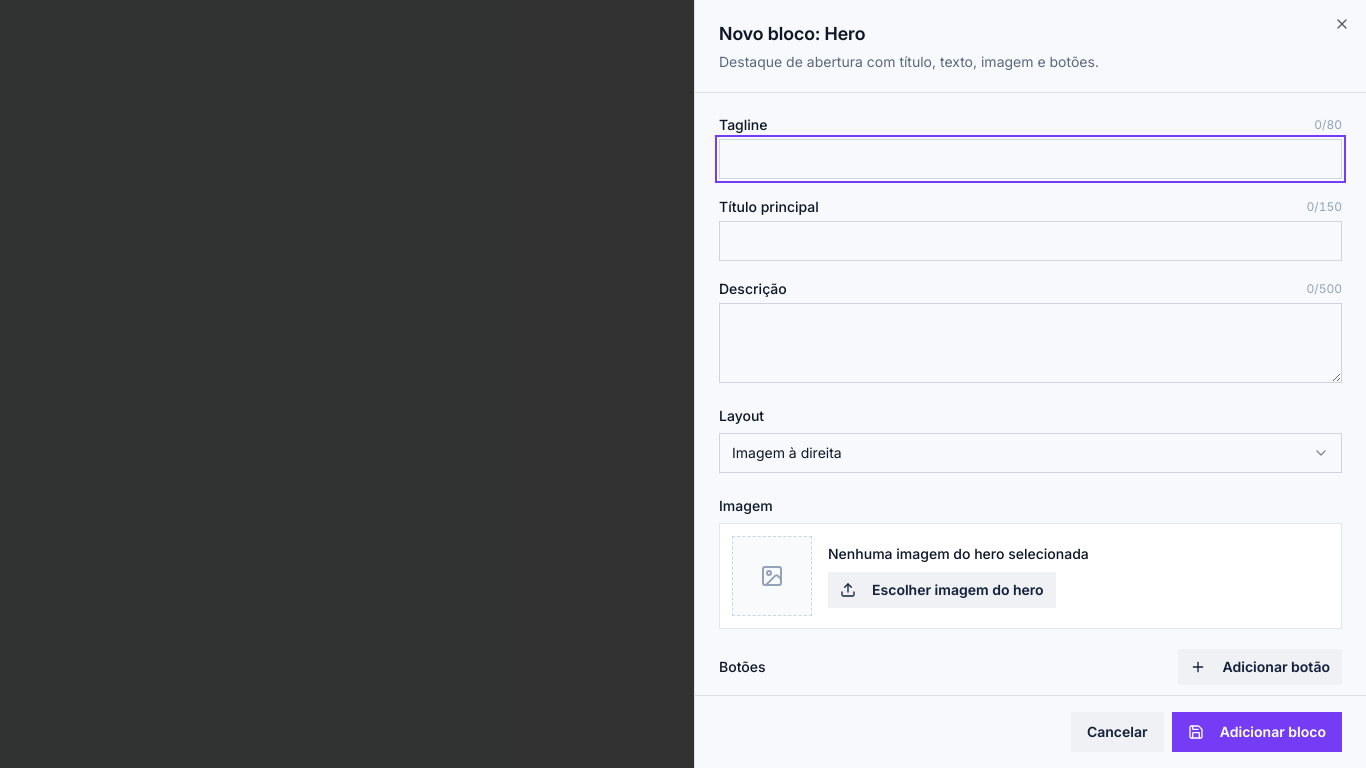
Test: BlockFormSheet (hero) › shows the field messages returned by the API when it rejects the block
Type "Olá" into the field labelled "Título principal".
click(1030, 241); type("Olá")  # box [719,221,1342,261]
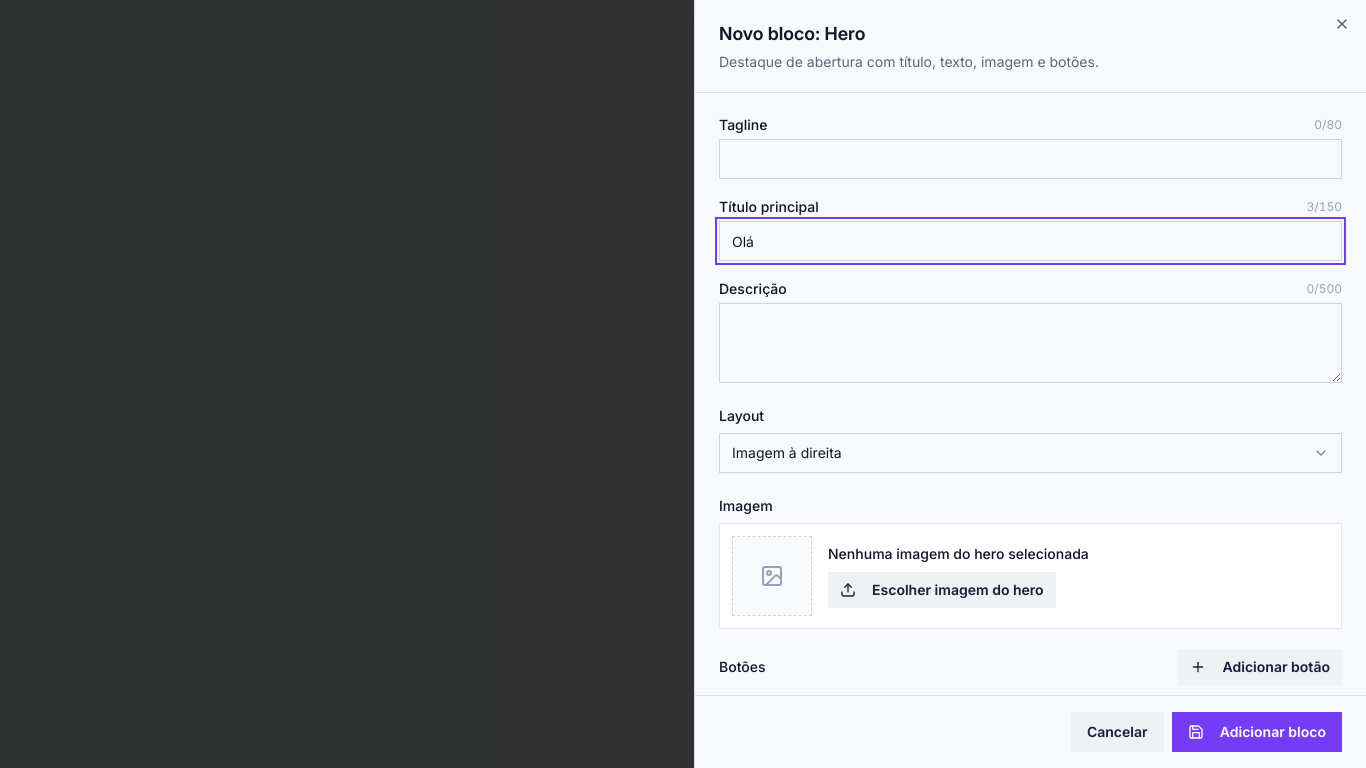
Click the 5th button named "adicionar bloco".
click(1257, 732)  # box [1172,712,1342,752]
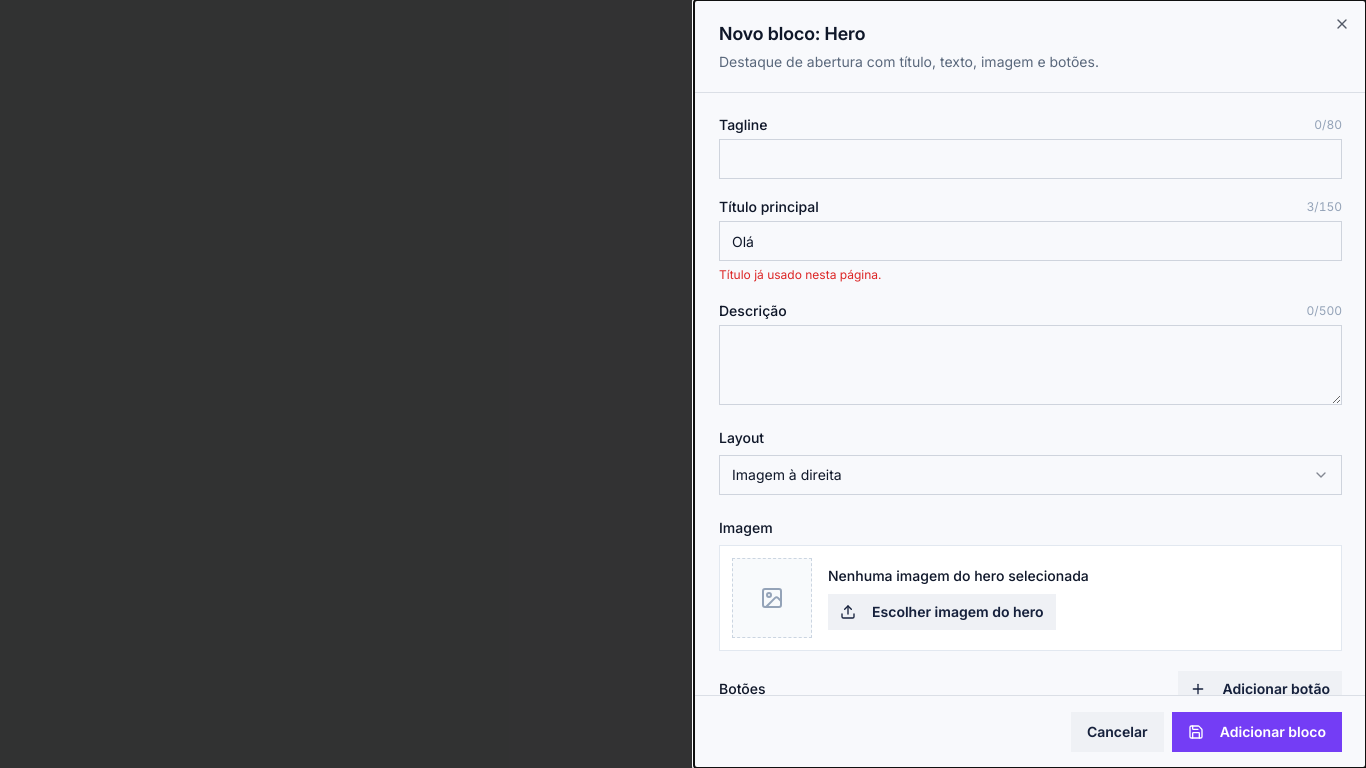
Expected: the text "Título já usado nesta página." is shown, [719,267,882,282]
